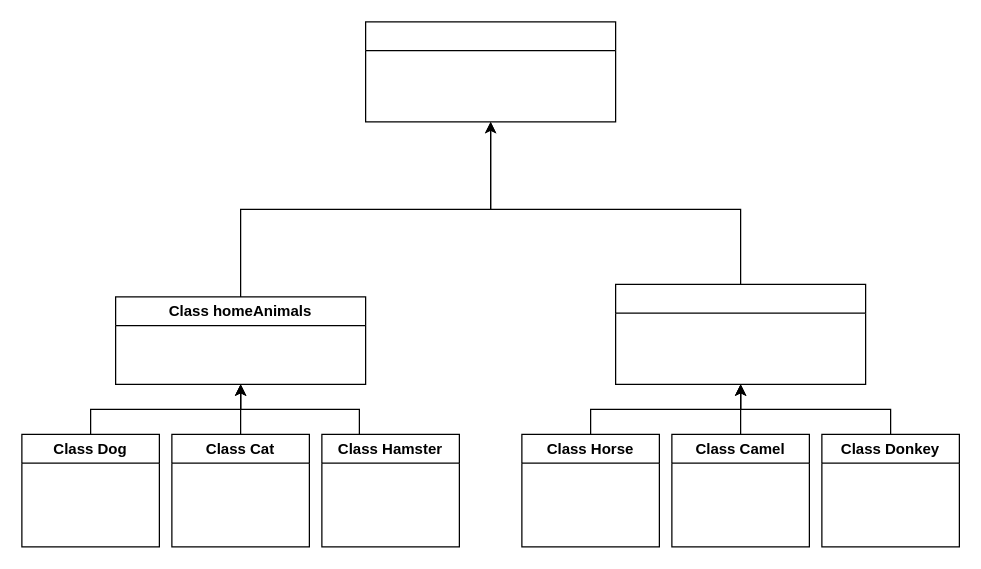
This 981x569 diagram has some shape labels left out. Each missing label, with the centre of its shape:
"Class animals" belongs at pixel 490 71.
"Class packAnimals" belongs at pixel 740 333.
